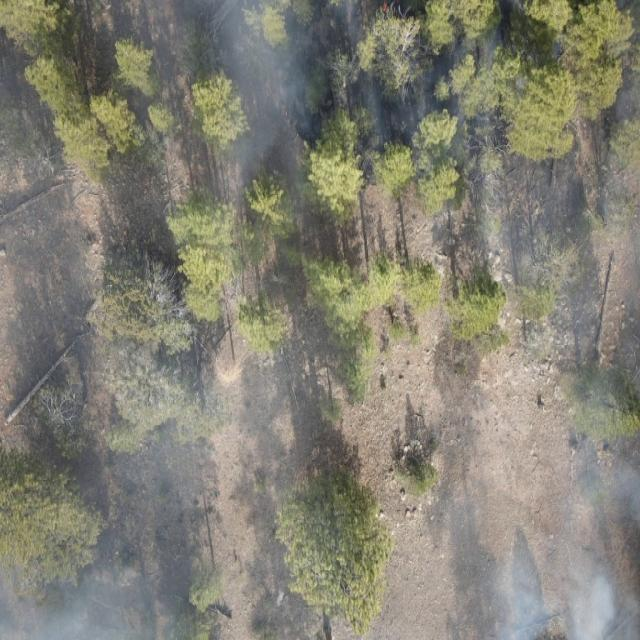fire: (380, 0, 390, 15), (282, 108, 292, 121)
smoke: (0, 297, 342, 640), (0, 0, 408, 210), (473, 32, 640, 353), (447, 440, 640, 640), (581, 353, 640, 441)
